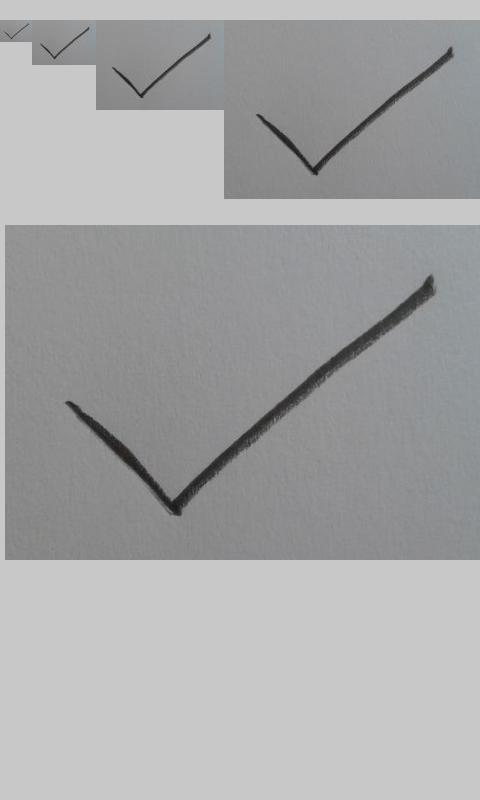check_box: (66, 275, 435, 517), (255, 46, 453, 175), (111, 33, 212, 98), (40, 27, 90, 59), (4, 23, 29, 39)
